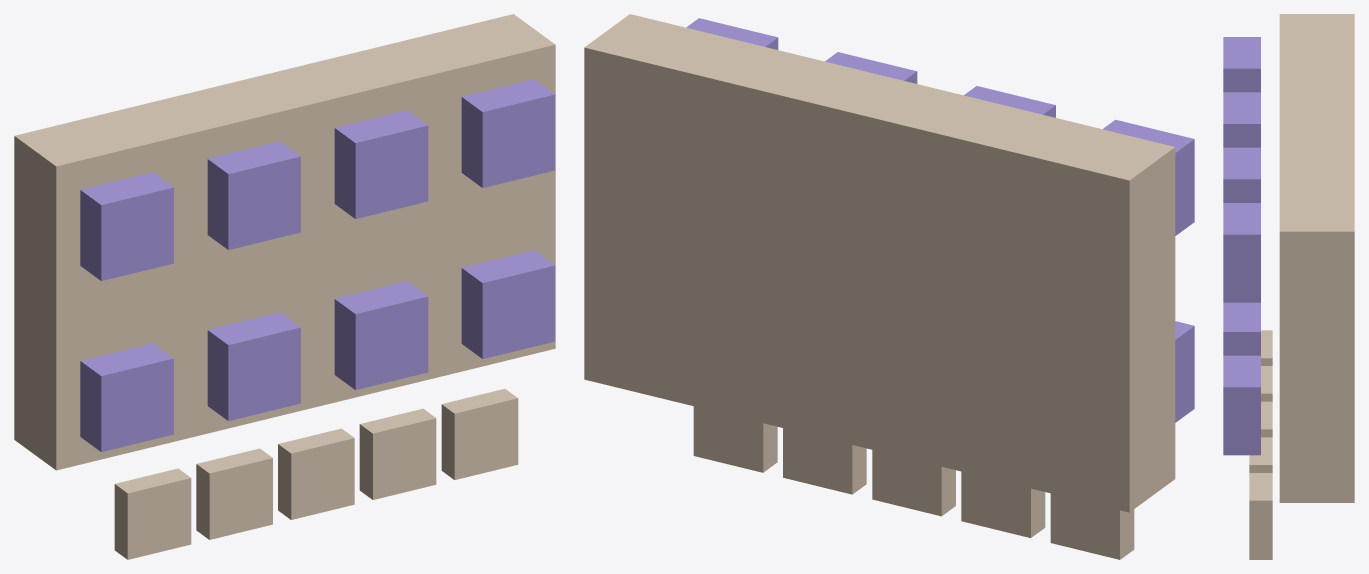
The model's file is fault_ventilation.gltf.
3 views of the same model, side by side, from view 1: azimuth 30°, elevation 25°; view 2: azimuth 150°, elevation 25°; view 3: azimuth 270°, elevation 25° (orthographic). The views are drawn at different scales.
Visible parts, largest first — view 1: blocked_vent, dust_6, dust_2, dust_3, dust_7, dust_0, dust_1, dust_4, dust_5, mould_0, mould_3, mould_4 (+2 smaller); view 2: blocked_vent, mould_0, mould_4, mould_1, mould_2, mould_3, dust_0, dust_4, dust_2, dust_3, dust_1; view 3: blocked_vent, dust_7, dust_3, dust_0, dust_1, dust_2, mould_4, dust_6, mould_3, mould_2, mould_0, mould_1.
Part boxes in pixels (x1,y1,x2,y2): blocked_vent: (14, 14, 555, 470); dust_6: (334, 281, 428, 390); dust_2: (334, 110, 428, 218); dust_3: (461, 79, 555, 187); dust_7: (461, 250, 555, 358); dust_0: (80, 172, 173, 280); dust_1: (207, 141, 300, 249); dust_4: (80, 343, 173, 451); dust_5: (207, 312, 300, 420); mould_0: (114, 468, 191, 559); mould_3: (359, 408, 436, 499); mould_4: (441, 388, 518, 479); blocked_vent: (584, 14, 1175, 512); mould_0: (1050, 493, 1134, 559); mould_4: (693, 406, 777, 472); mould_1: (961, 471, 1045, 537); mould_2: (872, 450, 955, 516); mould_3: (783, 428, 866, 494); dust_0: (1103, 119, 1194, 235); dust_4: (1175, 321, 1194, 422); dust_2: (825, 52, 917, 83); dust_3: (686, 18, 778, 49); dust_1: (964, 86, 1055, 117); blocked_vent: (1279, 14, 1354, 502); dust_7: (1223, 355, 1260, 455); dust_3: (1223, 203, 1260, 302); dust_0: (1223, 37, 1260, 92); dust_1: (1223, 92, 1260, 147); dust_2: (1223, 147, 1260, 202); mould_4: (1249, 473, 1272, 559); dust_6: (1223, 302, 1260, 355); mould_3: (1249, 437, 1272, 472); mould_2: (1261, 401, 1272, 437); mould_0: (1261, 330, 1272, 365); mould_1: (1261, 366, 1272, 401).
Bounding box in the file's own units: 0.55 × 0.415 × 0.14.
